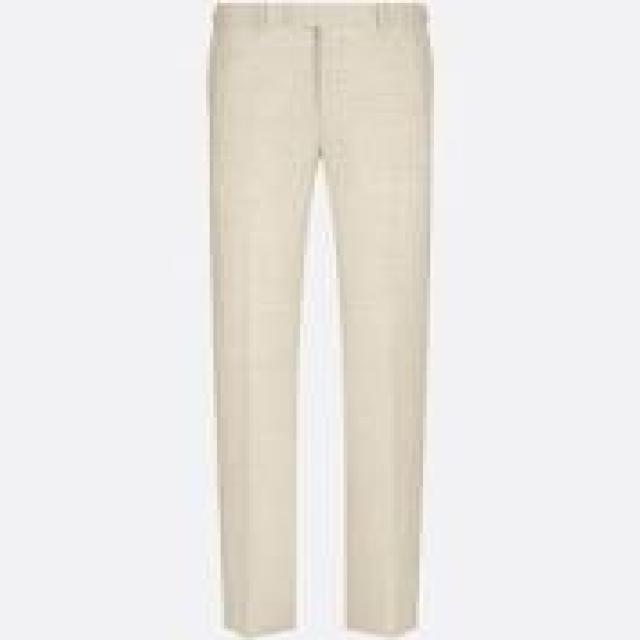long-pants: (202, 2, 436, 640)
